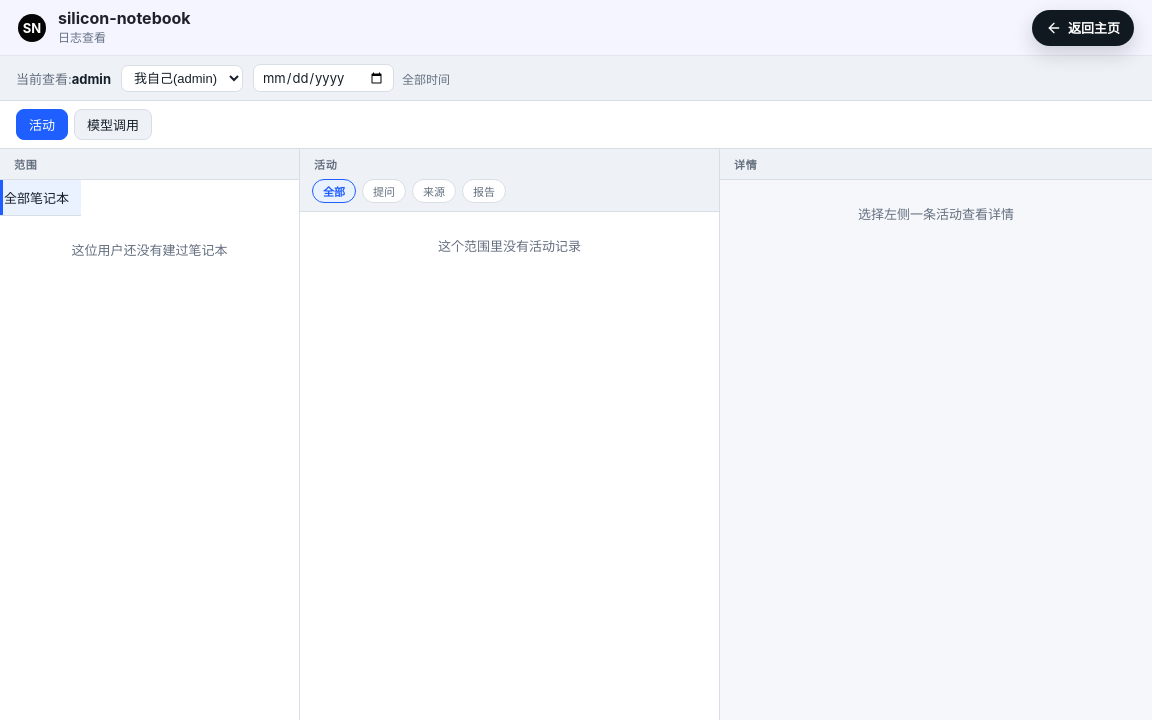
Scenario: 切换用户后忽略较晚返回的旧频道和日期
The image size is (1152, 720).
Click the button "模型调用" at coordinates (113, 124), box [74, 109, 152, 140]
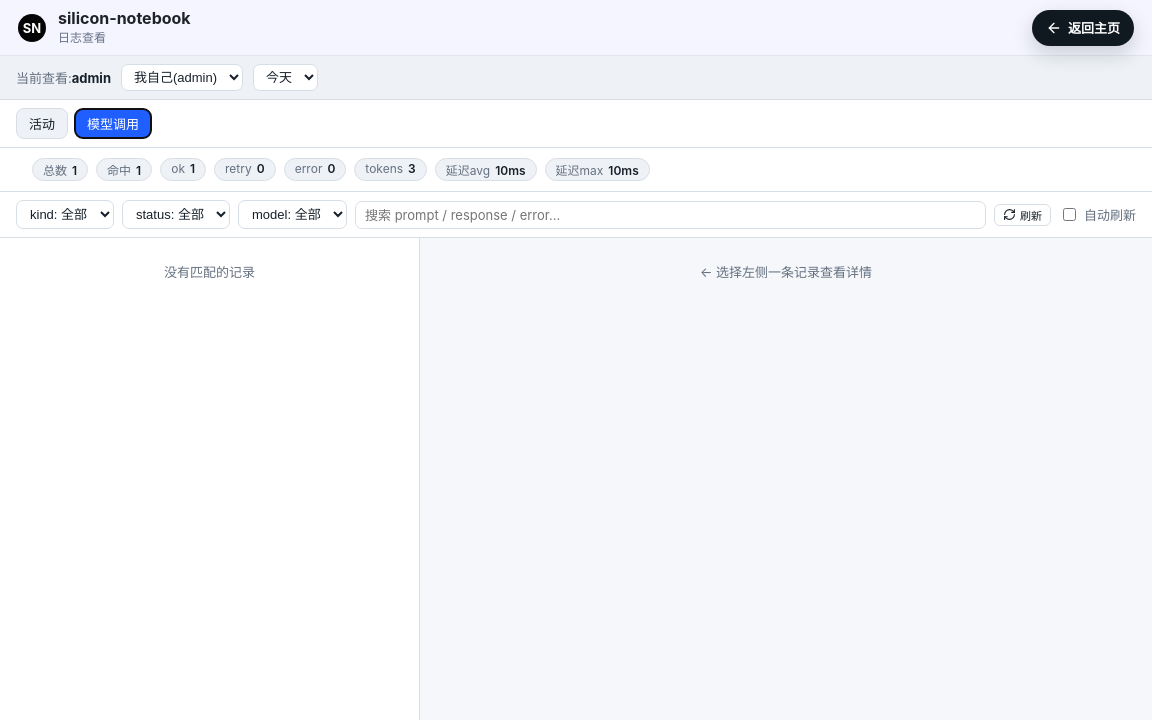
Select "a00123456" in the dropdown with class "logview-owner-select" at coordinates (182, 78), box [121, 64, 243, 91]
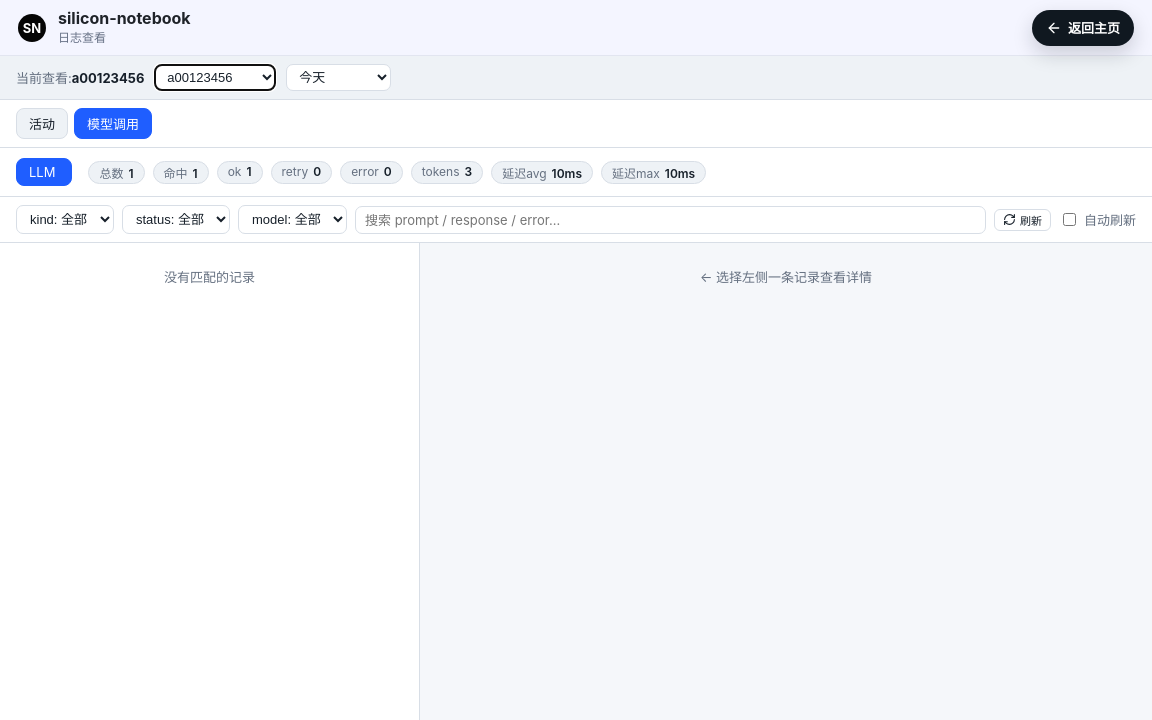
Result: the button "LLM" is shown at [16, 158, 72, 186]
